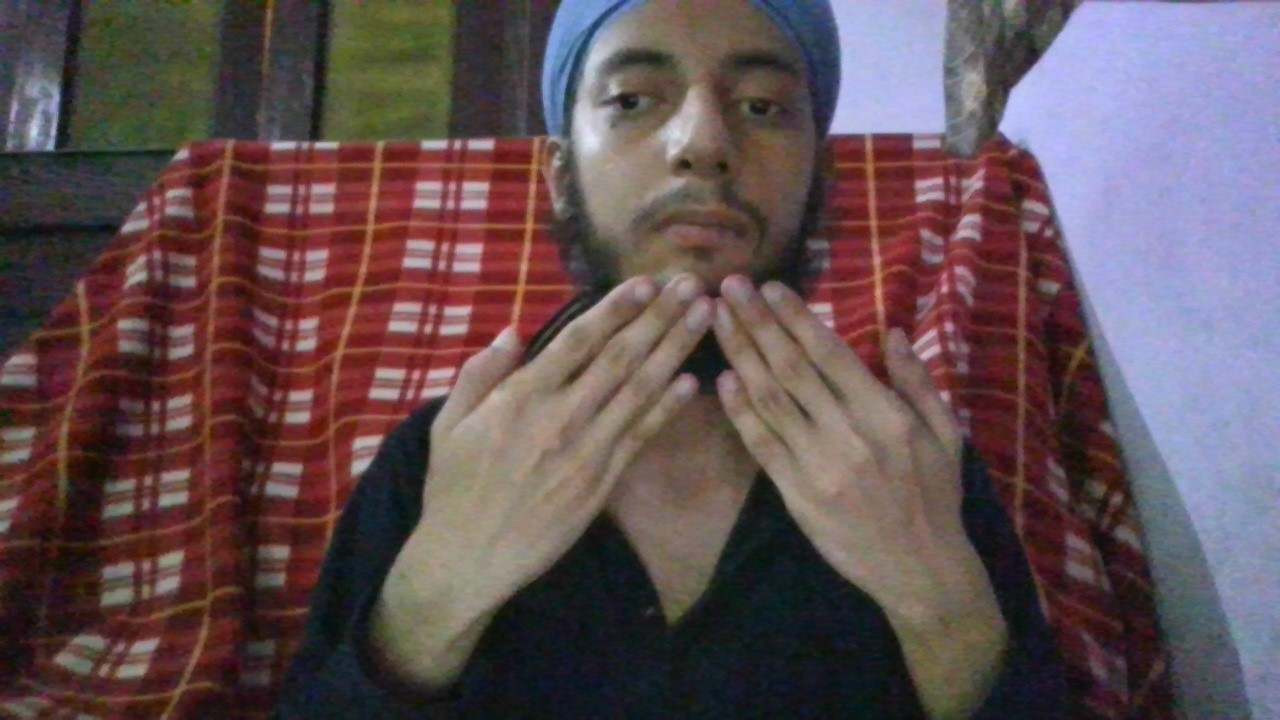Thank You: (409, 268, 969, 559)
